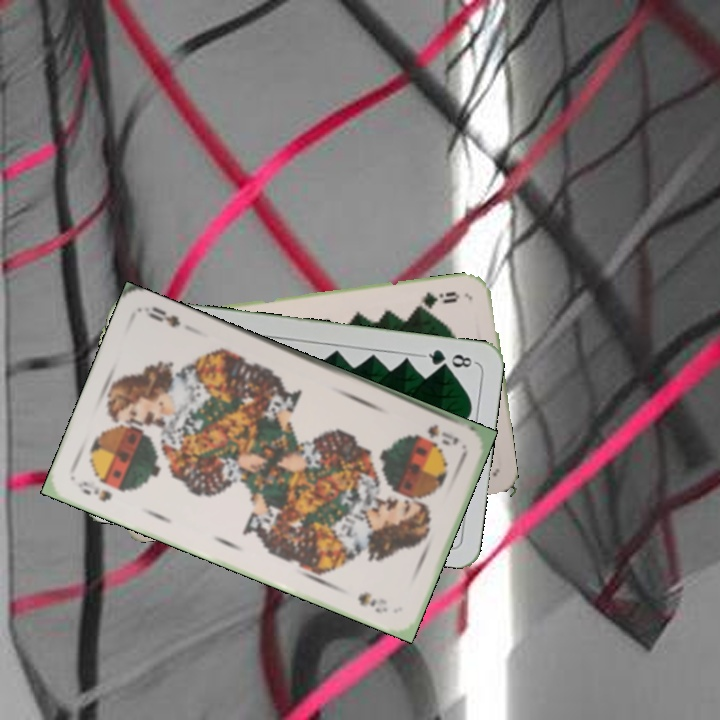G8: (419, 345, 478, 371)
G9: (411, 287, 462, 312)
SO: (423, 420, 462, 449), (74, 477, 115, 504)
